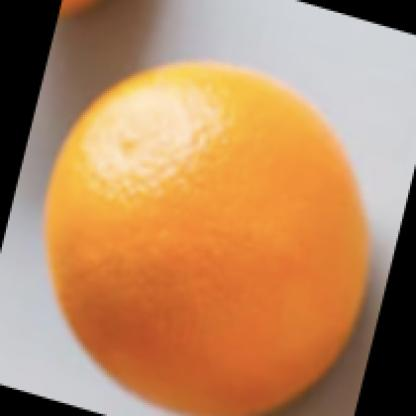fresh: (43, 66, 366, 416)
